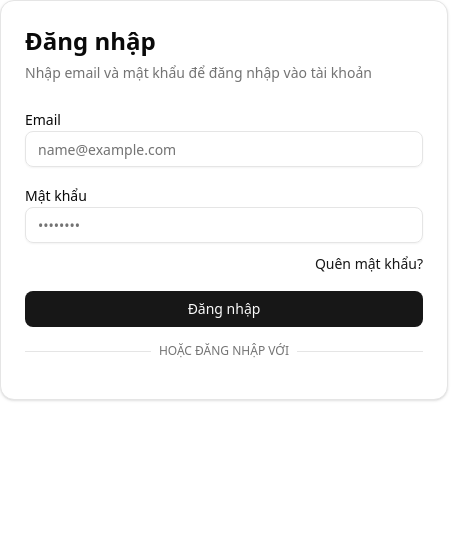
it: LoginForm unverified-account messaging › shows the specific verification-required message when login is rejected as unverified
Type "user@test.com" into the field labelled "Email" at x=224, y=149, box [25,131,423,167]
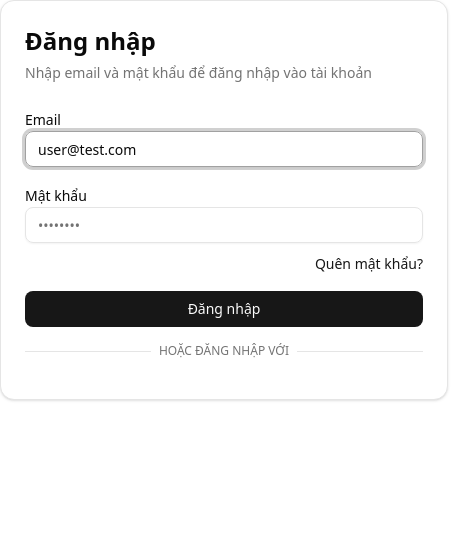
Type "password123" into the password field labelled "Mật khẩu" at x=224, y=225, box [25,207,423,243]
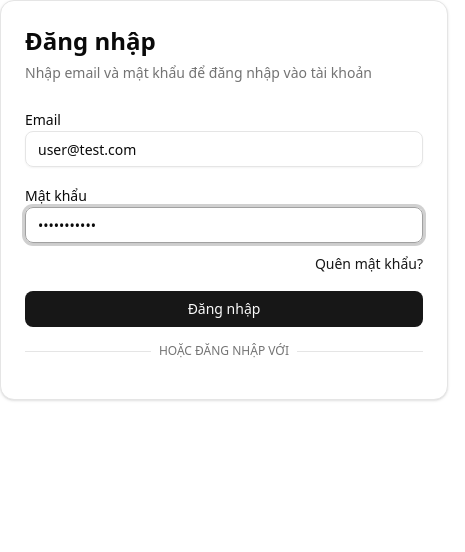
Click the button "Đăng nhập" at x=224, y=309, box [25,291,423,327]
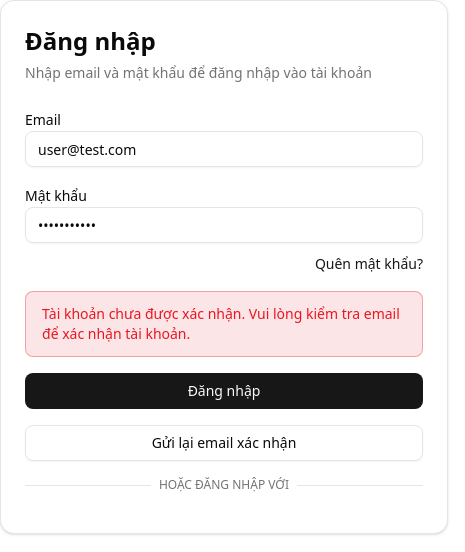
Now the text "Tài khoản chưa được xác nhận. Vui lòng kiểm tra email để xác nhận tài khoản." is shown, box [42,304,406,344]
Now the button "Gửi lại email xác nhận" is shown, box [25,425,423,461]
